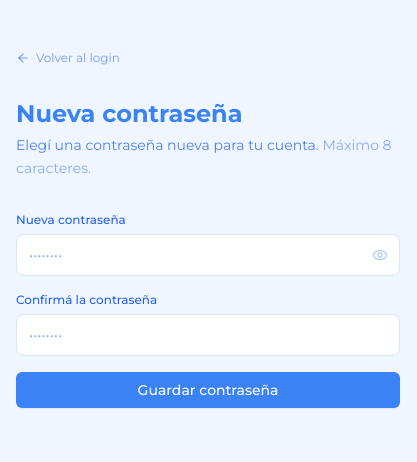
it: NuevaPasswordPage › con token en la URL › debería mostrar error genérico si falla la red
The image size is (417, 462).
Type "nueva12" into the password field with id "clave" at x=208, y=255, box left=16, top=234, right=400, bottom=276
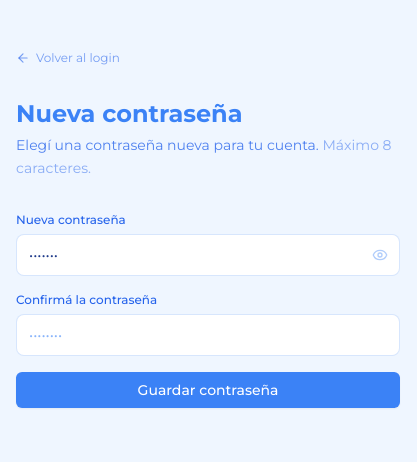
Type "nueva12" into the password field with id "confirm" at x=208, y=335, box left=16, top=314, right=400, bottom=356
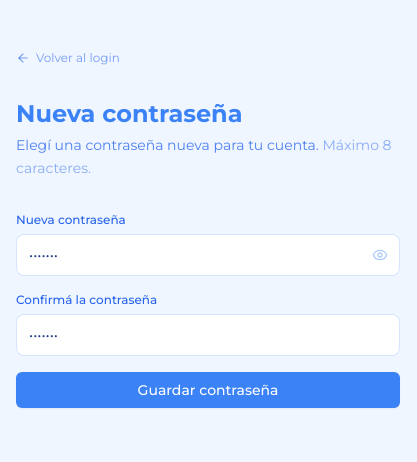
Submit the form, box left=16, top=212, right=400, bottom=408
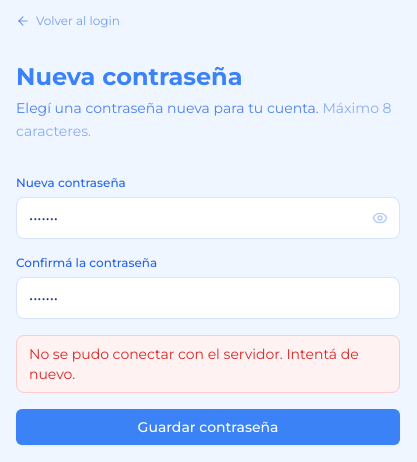
Result: the text "No se pudo conectar con el servidor. Intentá de nuevo." is shown at left=16, top=335, right=400, bottom=393
